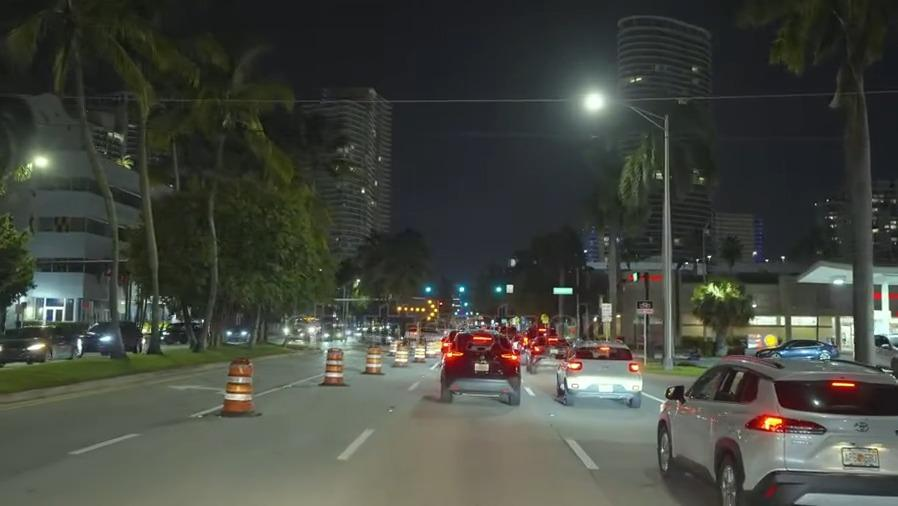arrow traffic sign: (393, 295, 440, 323)
car: (660, 354, 898, 506), (438, 328, 523, 407), (554, 335, 642, 407), (0, 319, 80, 367), (757, 336, 840, 363), (81, 319, 146, 352), (529, 331, 567, 375), (158, 318, 204, 344), (871, 329, 898, 371), (225, 323, 249, 340)
cone: (225, 354, 253, 415), (323, 344, 344, 389), (363, 343, 381, 375), (396, 341, 409, 367), (411, 339, 425, 362)
traffic light: (489, 282, 506, 299), (419, 282, 436, 295), (454, 283, 467, 298)
wheel: (704, 448, 747, 506), (653, 420, 679, 479)
